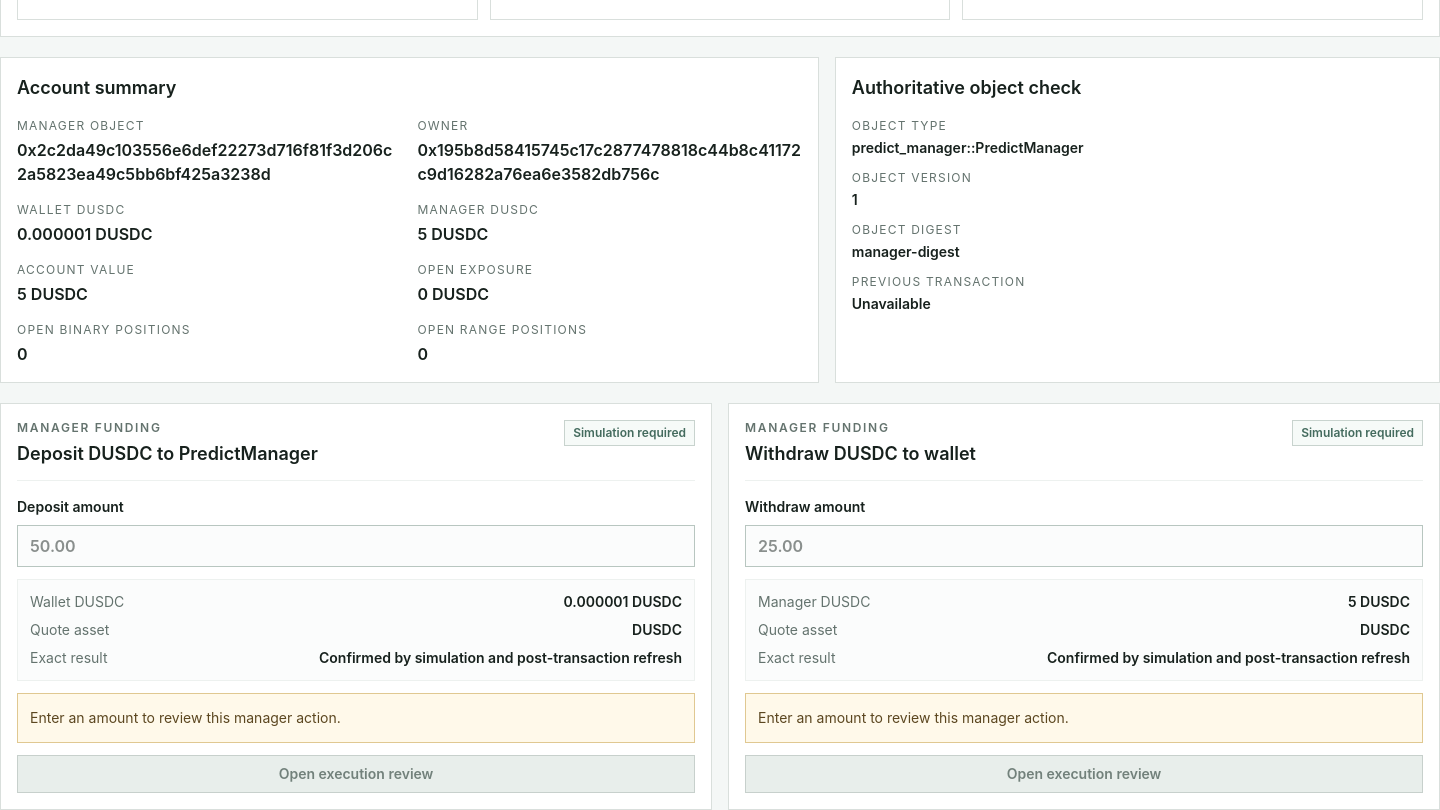
Scenario: PredictManagerPage › blocks deposit review when wallet DUSDC is insufficient
(page scrolled)
Type "1.00" into the field labelled "Deposit amount" at (356, 546), box [17,525,695,567]
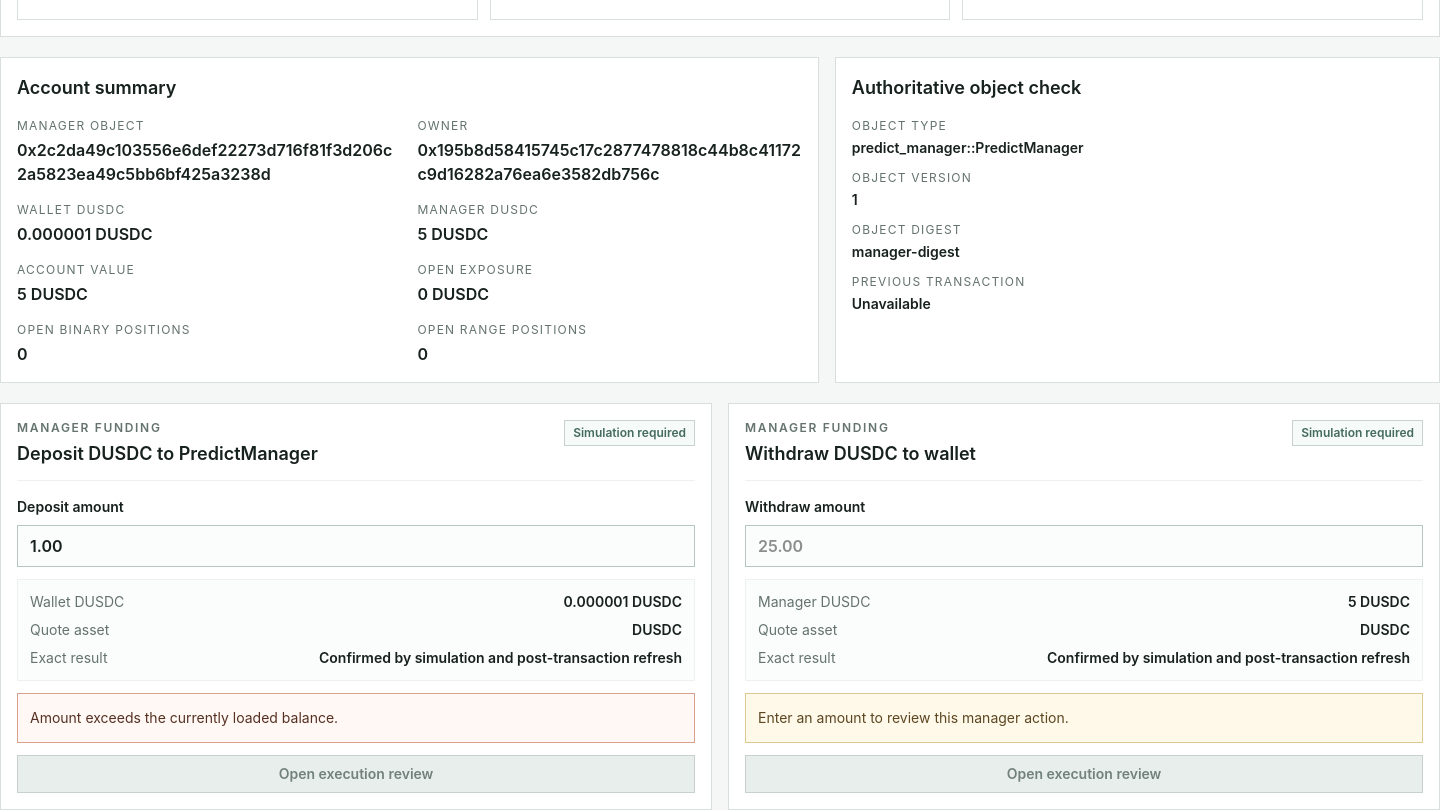
Expected: the button "Open execution review" below "Deposit amount" is disabled, [17,755,695,793]
Now the text "Amount exceeds the currently loaded balance." is shown, box [17,693,695,743]
